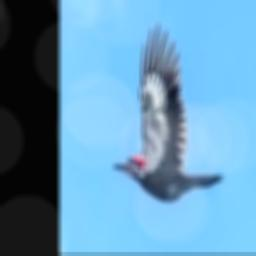Woodpecker: (113, 23, 225, 202)
